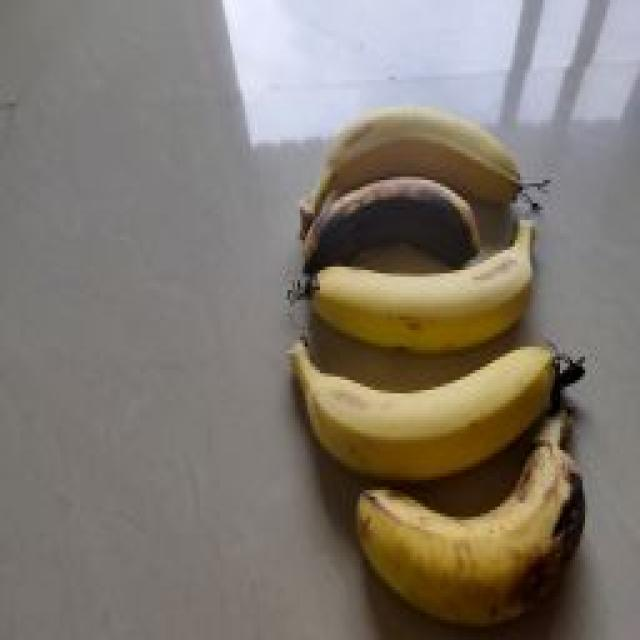Organik: (342, 416, 582, 625), (282, 323, 586, 482), (291, 91, 542, 215), (306, 237, 546, 354), (294, 178, 477, 276)
